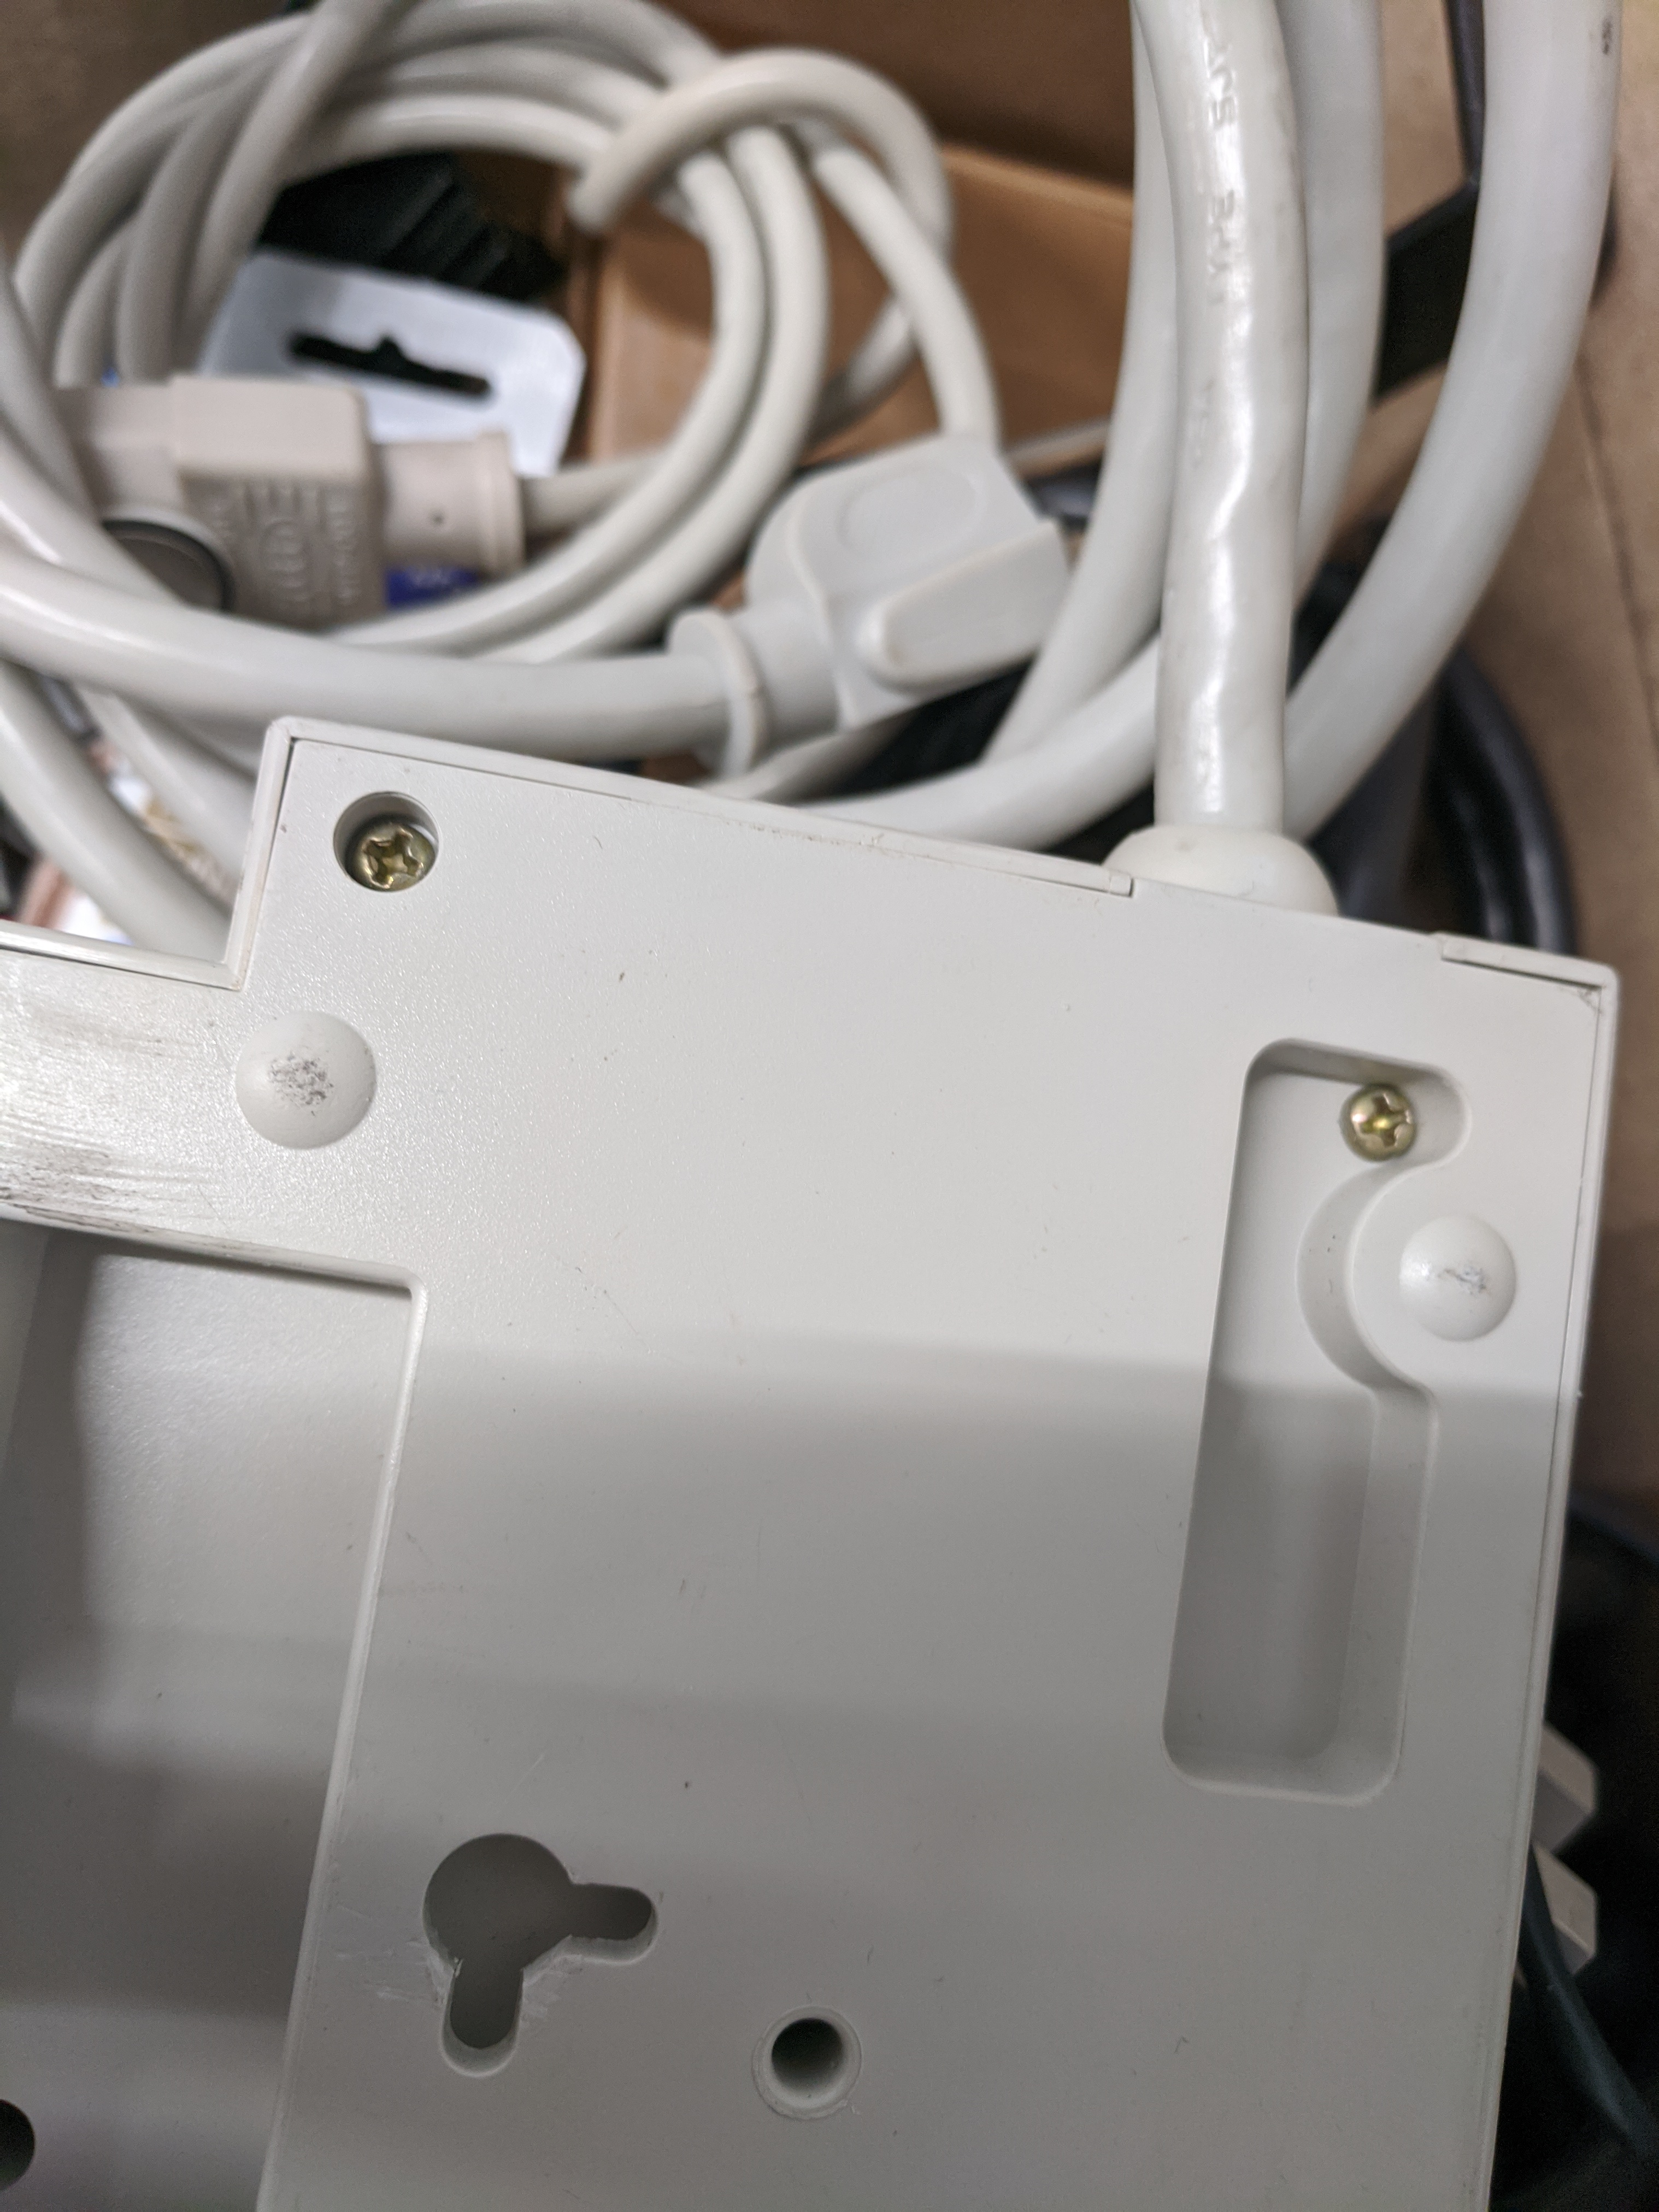cross_recessed_screw: (1328, 1055, 1439, 1169), (333, 799, 439, 894)
